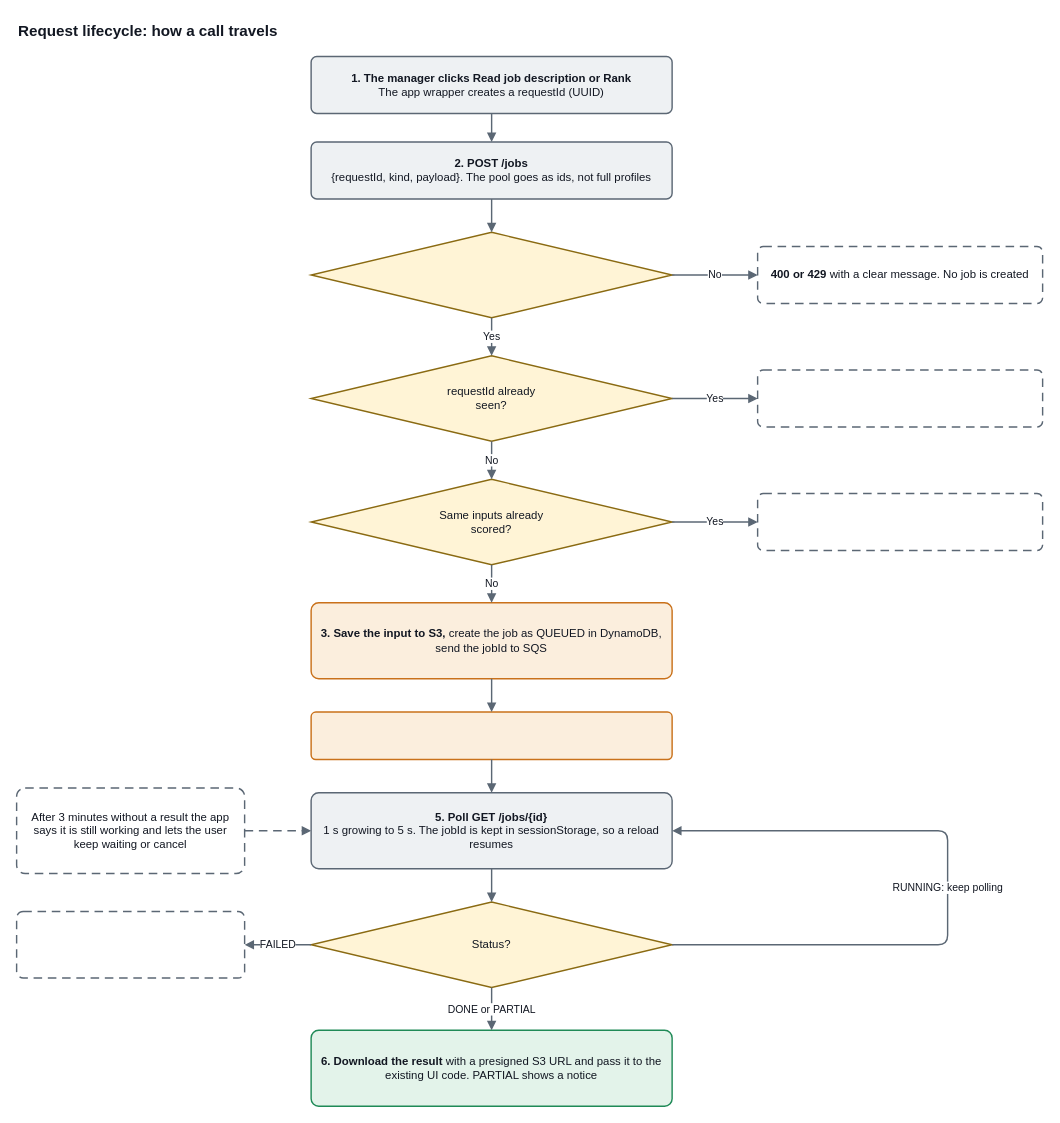
Image size: 1060x1123. Some labels were removed from this diagram. Here are the shapes that lost their labels. From the top down, the centre of each, then its label:
(x=491, y=274): Valid and under the daily cap?
(x=899, y=398): Return the existing jobId. No second job and no second charge
(x=899, y=521): Return the stored result. No new work and no new cost
(x=491, y=735): 4. Return 202 with the jobId Under 1 second
(x=130, y=944): Show the error and offer Retry or the labeled placeholder ranking
